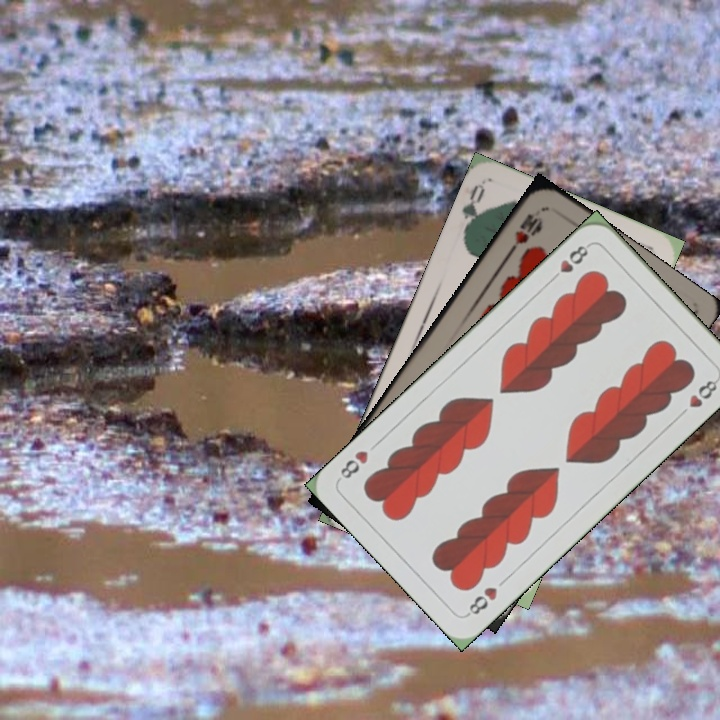GO: (457, 180, 488, 239)
H10: (504, 209, 545, 257)
H8: (546, 240, 593, 285), (462, 583, 500, 619)
